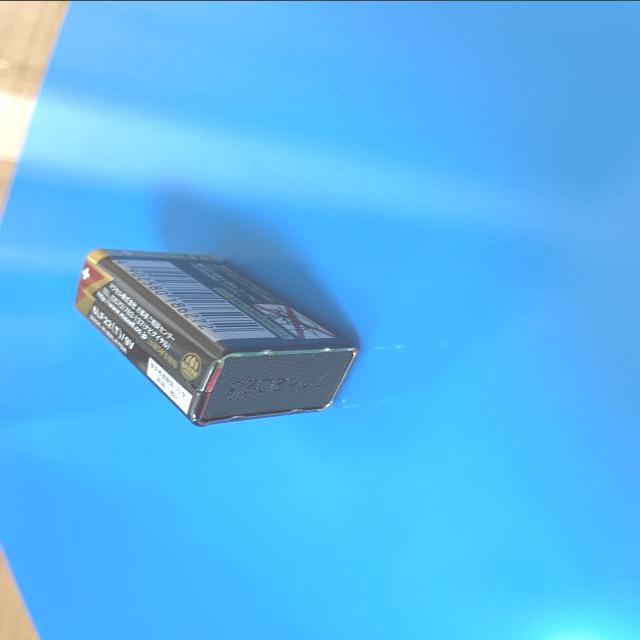9V: (72, 248, 360, 427)
